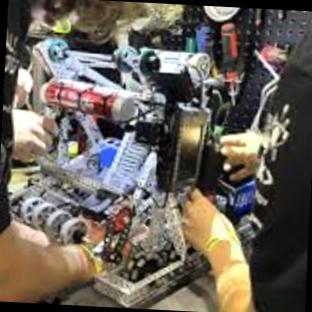Robot: (10, 38, 260, 306), (244, 106, 261, 156)
